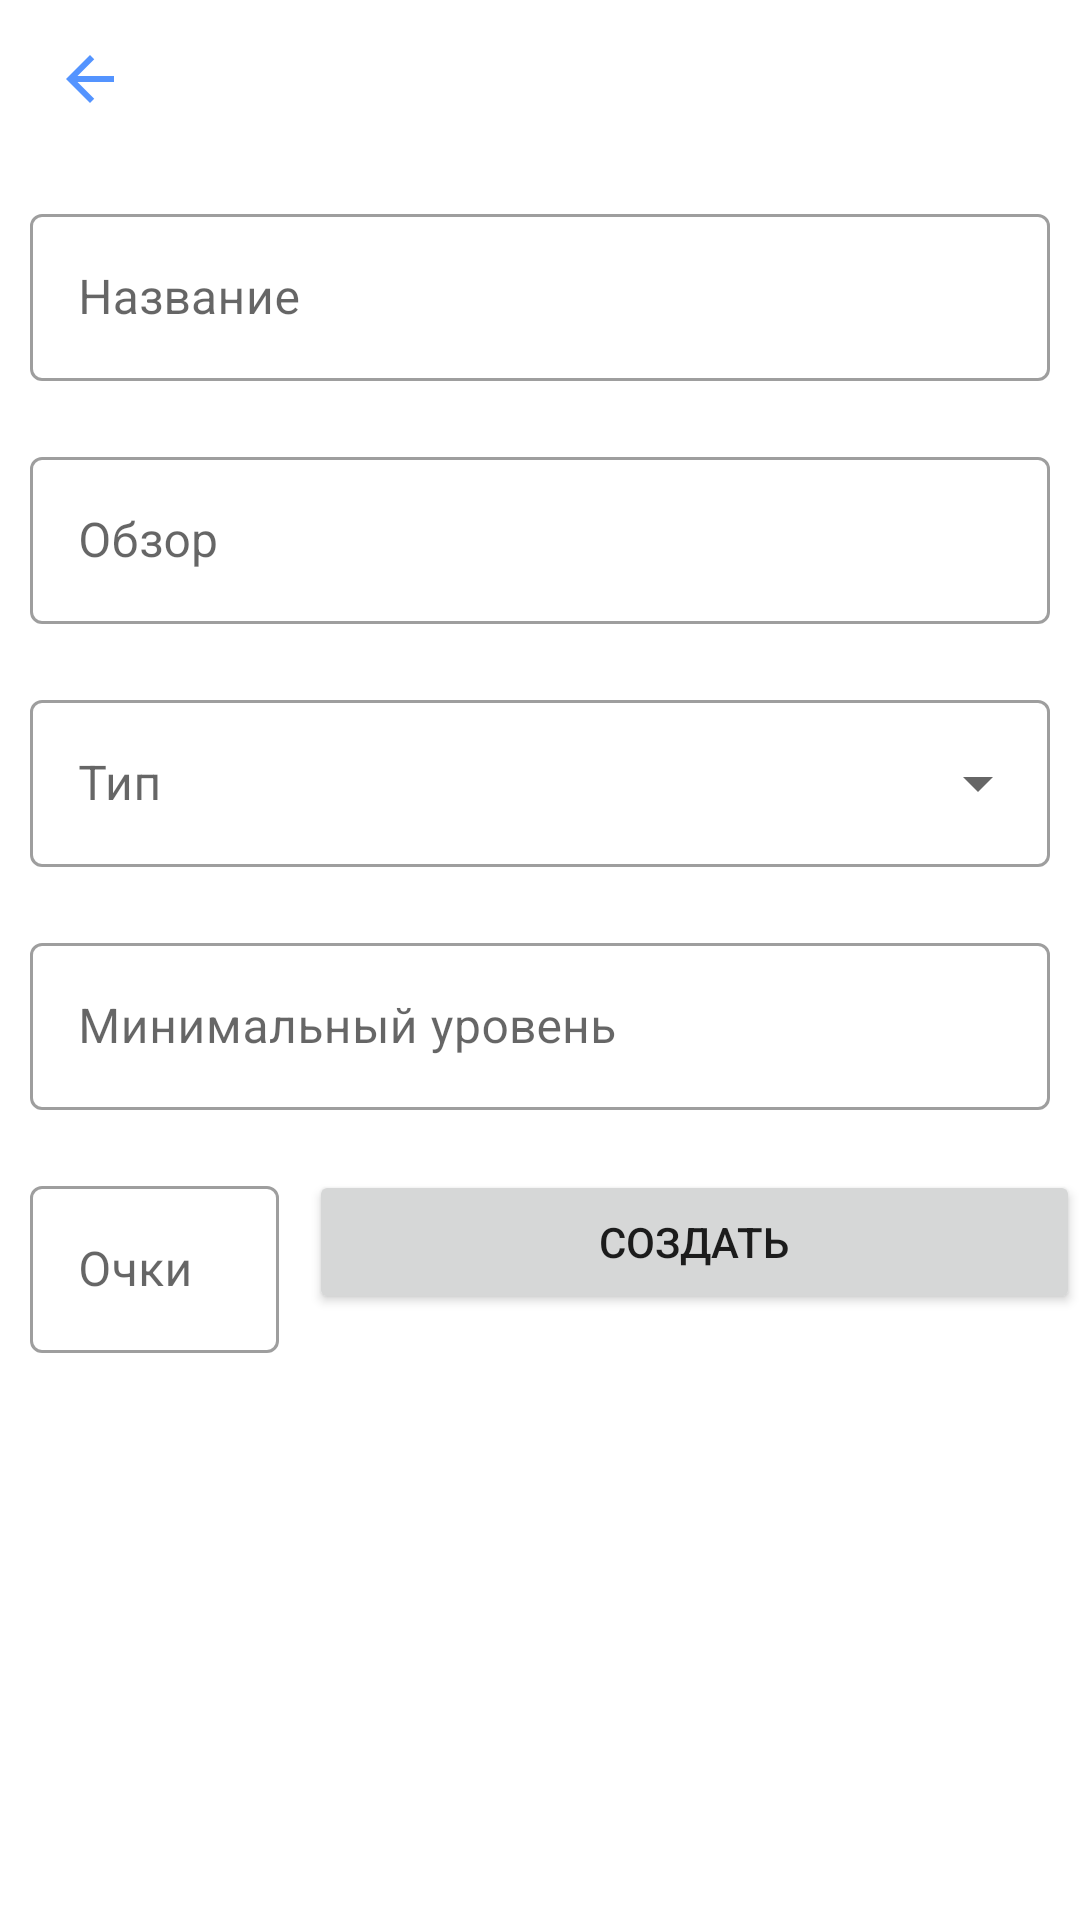

Screen size 1080px x 1920px. Icon name, then its box in pixels as (x1, y1, x2, y2):
back: (66, 55, 114, 103)
